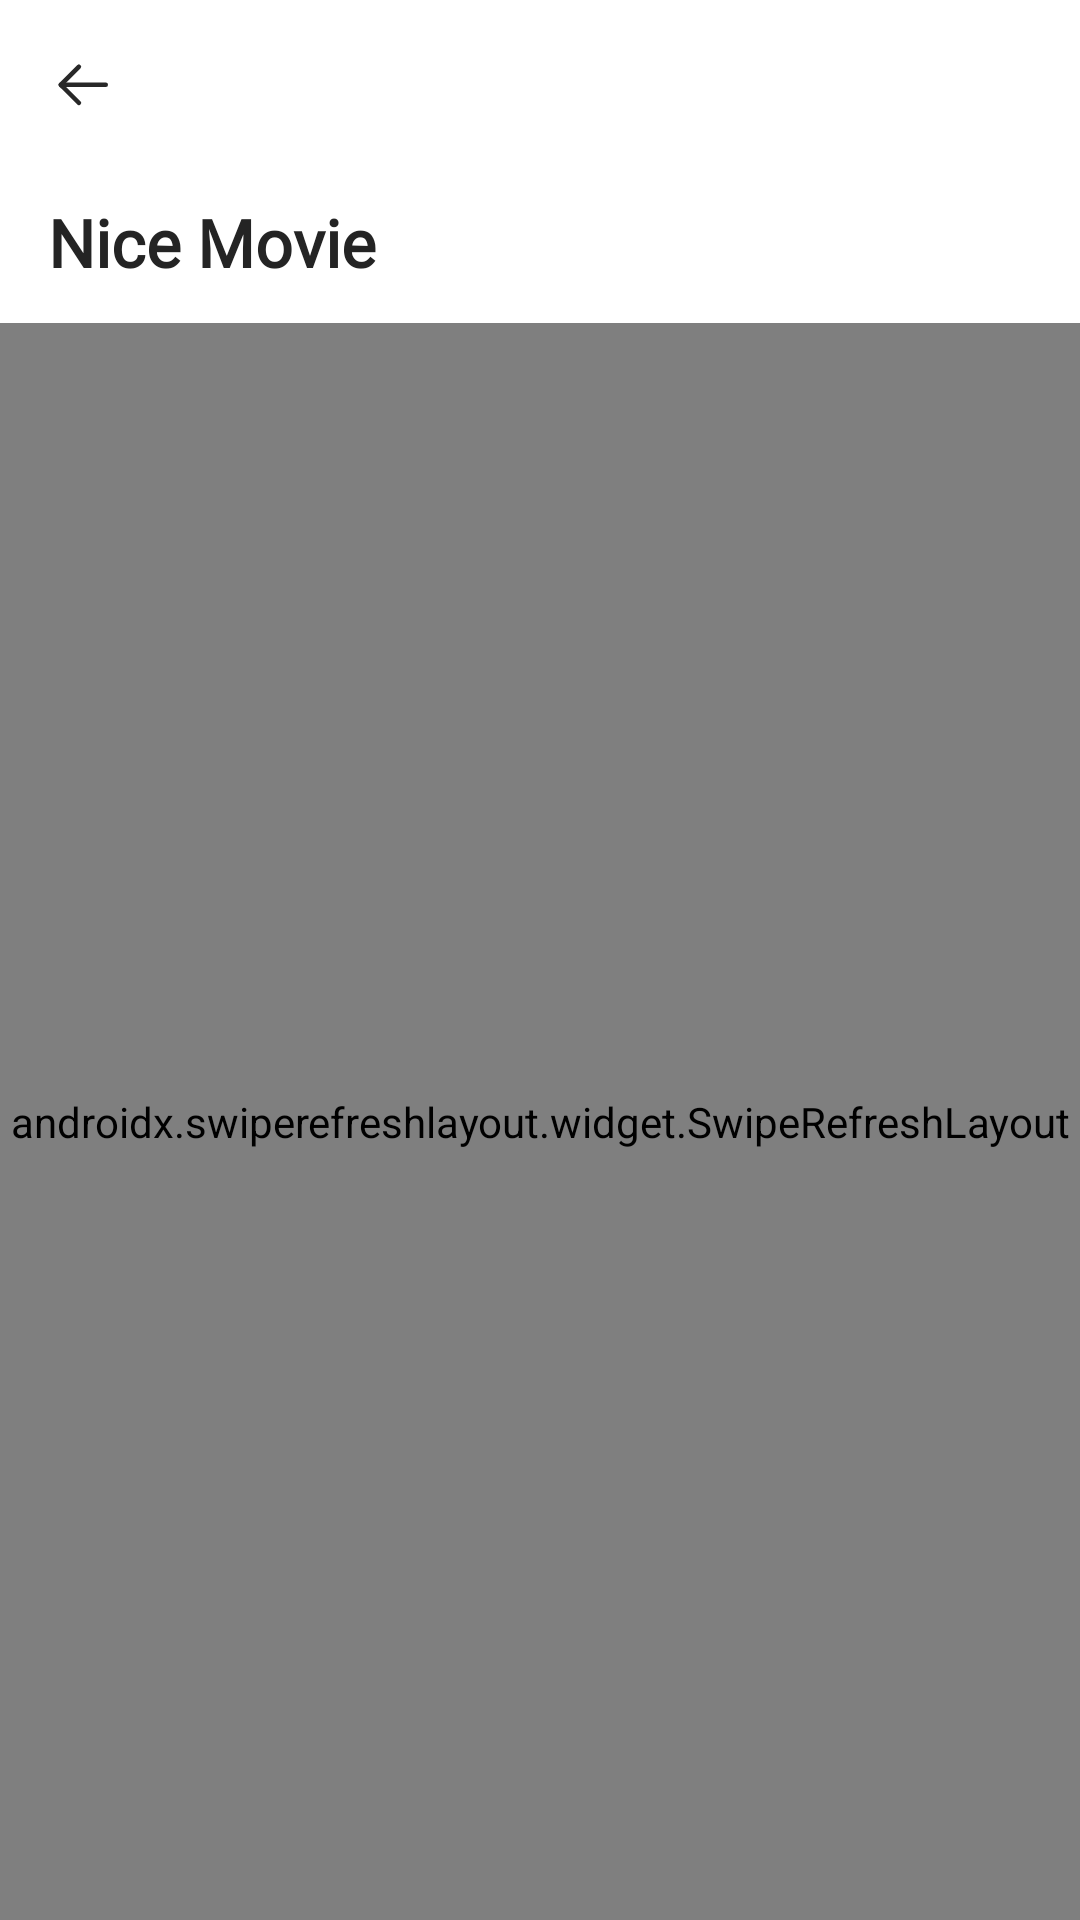

Where to tap for icons on this 1080*1920 app screen, as [x,y]:
arrow back: [83,85]
